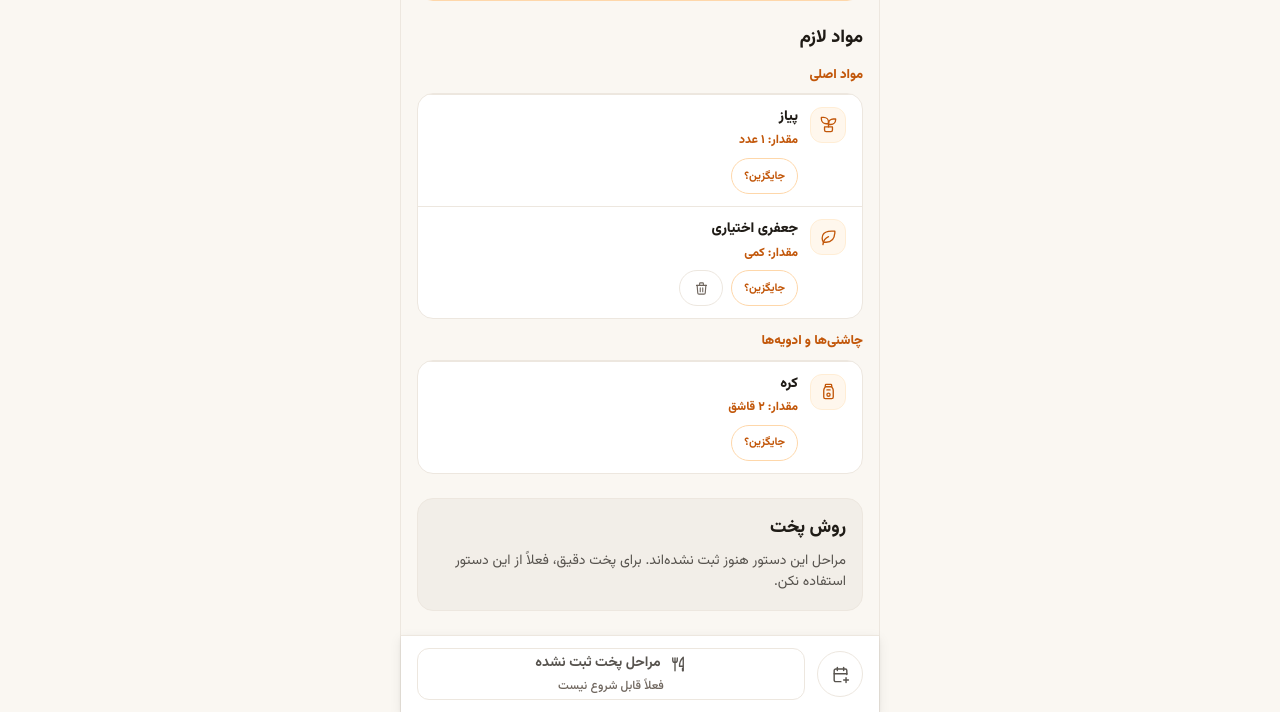
Test: Recipe Detail — apply substitution (Phase 2) › picking a grounded swap replaces the ingredient name and shows «به‌جای X»
The width and height of the screenshot is (1280, 712).
(page scrolled)
# open the per-ingredient swap sheet for کره
Click the button with aria-label "جایگزین برای کره" at (765, 443), box top-left (731, 425), bottom-right (798, 461)
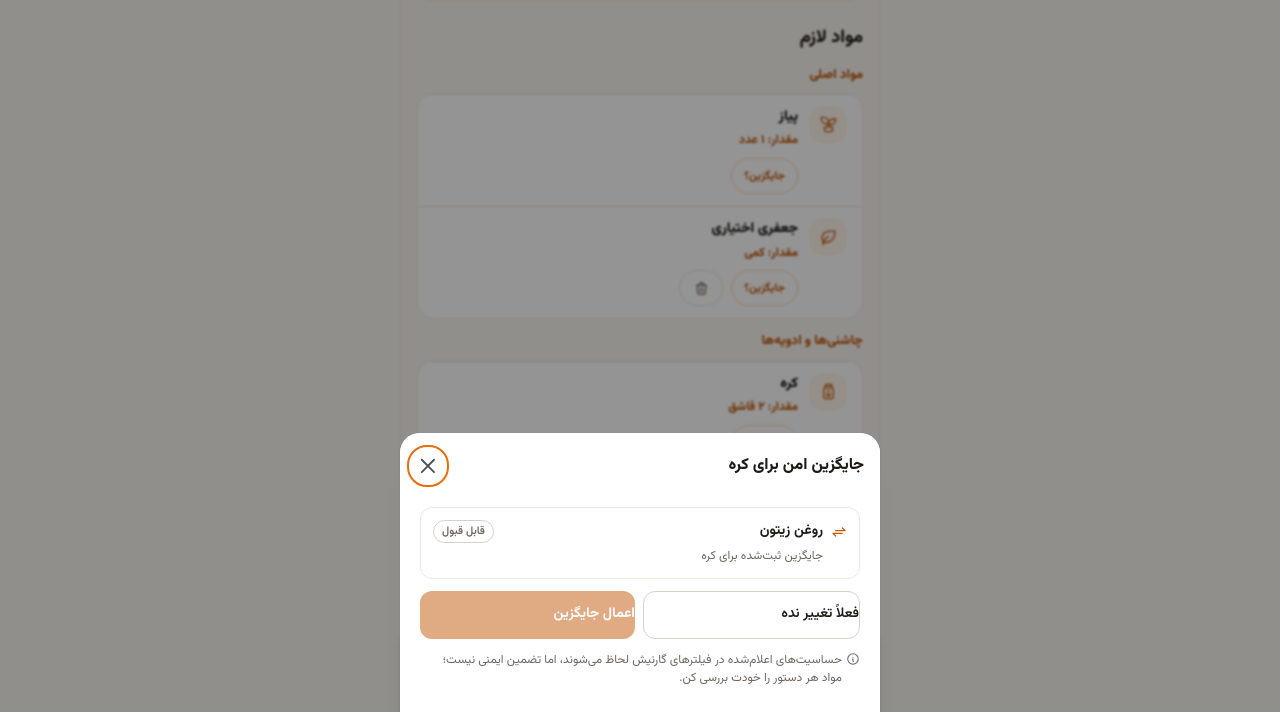
Check: the text "جایگزین ثبت‌شده برای کره" is shown, box top-left (701, 547), bottom-right (823, 565)
Click the text "روغن زیتون" at (791, 531), box top-left (760, 520), bottom-right (823, 542)
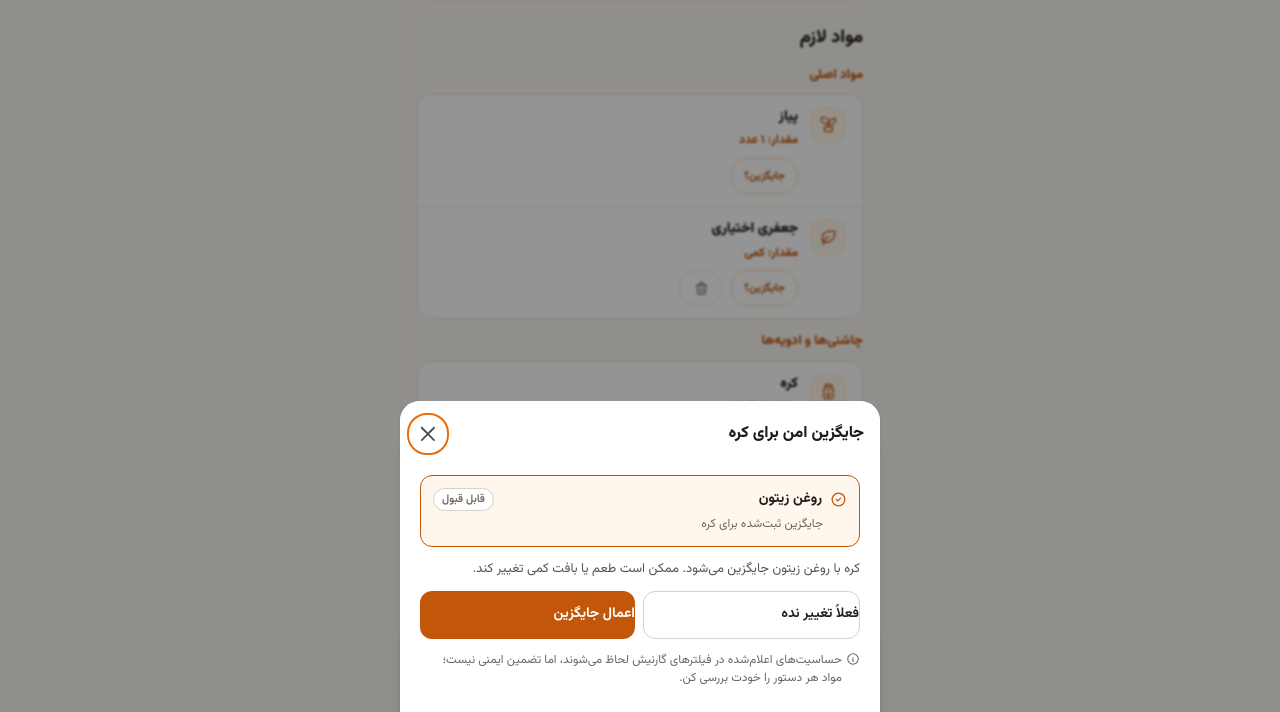
Check: the button "اعمال جایگزین" is enabled
Click the button "اعمال جایگزین" at (528, 615), box top-left (420, 591), bottom-right (635, 639)
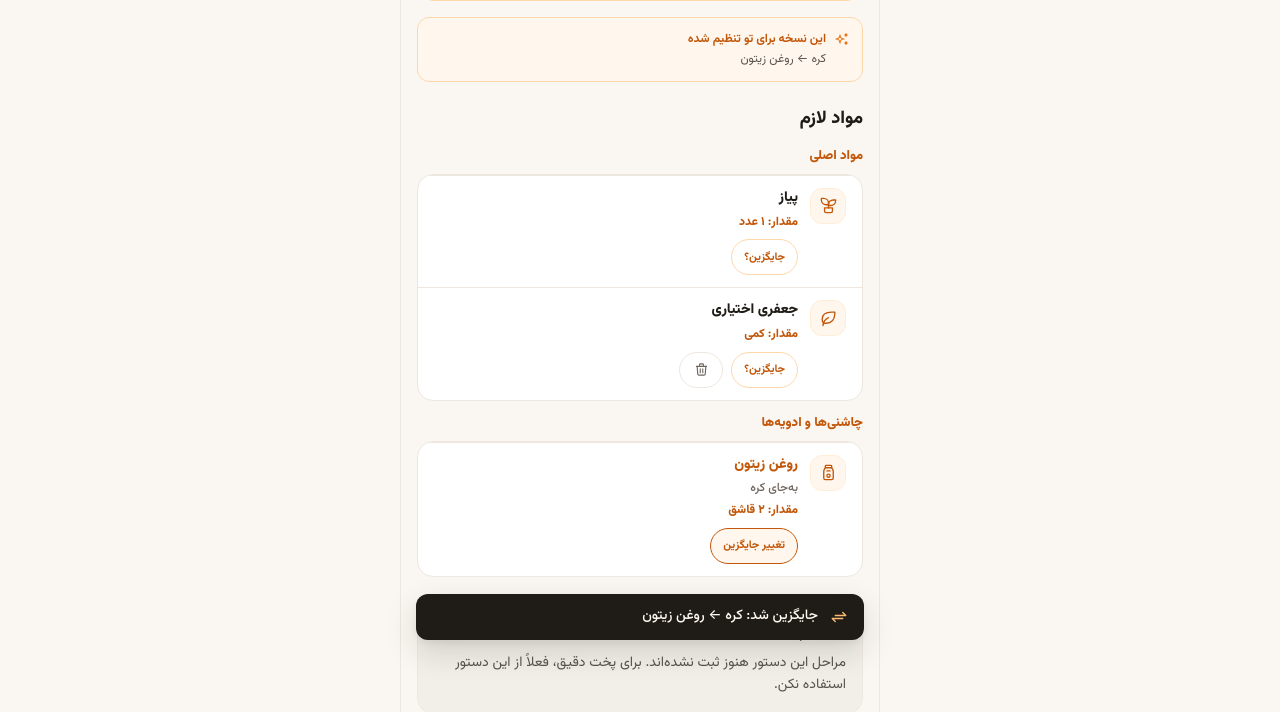
Check: the text "جایگزین شد: کره ← روغن زیتون" is shown, box top-left (642, 605), bottom-right (818, 627)
Check: the text "به‌جای کره" is shown, box top-left (750, 479), bottom-right (798, 497)
